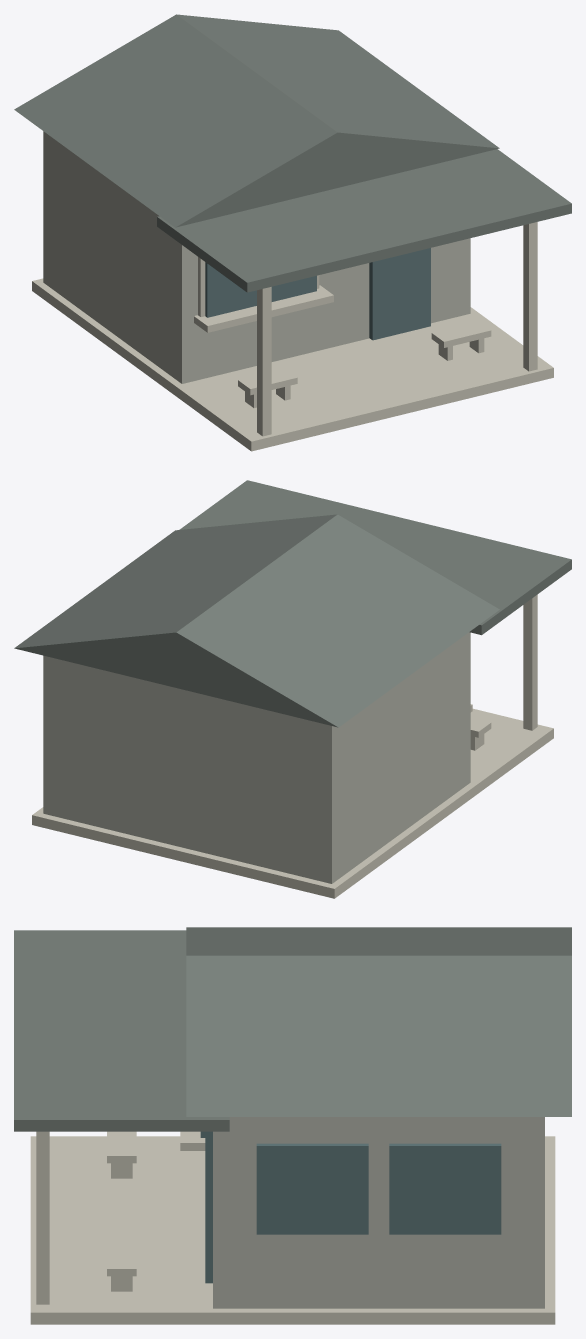
Rendered from snack_bar_02.glb.
3 views of the same model, one above another, from view 1: azimuth 30°, elevation 25°; view 2: azimuth 150°, elevation 25°; view 3: azimuth 270°, elevation 25° (orthographic). The views are drawn at different scales.
Parts seen in each view (by area): view 1: Snack_bar_02; view 2: Snack_bar_02; view 3: Snack_bar_02.
Part boxes in pixels (box(x1,y1,x2,y2)): Snack_bar_02: box(14, 14, 571, 451); Snack_bar_02: box(14, 480, 571, 898); Snack_bar_02: box(14, 927, 571, 1324).
Bounding box in the file's own units: 5.59 × 3.86 × 6.96.
